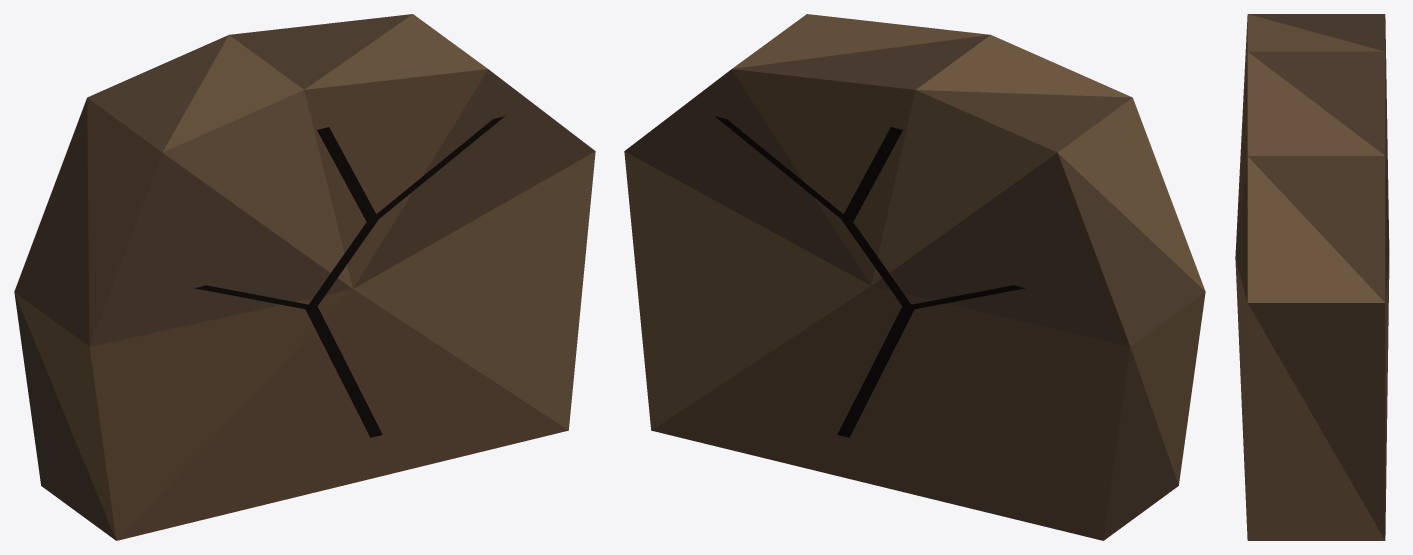
Rendered from magma_ferry_break_rock.obj.
3 views of the same model, side by side, from view 1: azimuth 30°, elevation 25°; view 2: azimuth 150°, elevation 25°; view 3: azimuth 270°, elevation 25° (orthographic). The views are drawn at different scales.
Visible parts, largest first — view 1: magma_ferry_break_rock; view 2: magma_ferry_break_rock; view 3: magma_ferry_break_rock.
Part boxes in pixels (left/top/right/bottom): magma_ferry_break_rock: left=14, top=14, right=595, bottom=540; magma_ferry_break_rock: left=624, top=14, right=1205, bottom=540; magma_ferry_break_rock: left=1235, top=14, right=1389, bottom=540.
Bounding box in the file's own units: 13.2 × 10.1 × 4.05.
